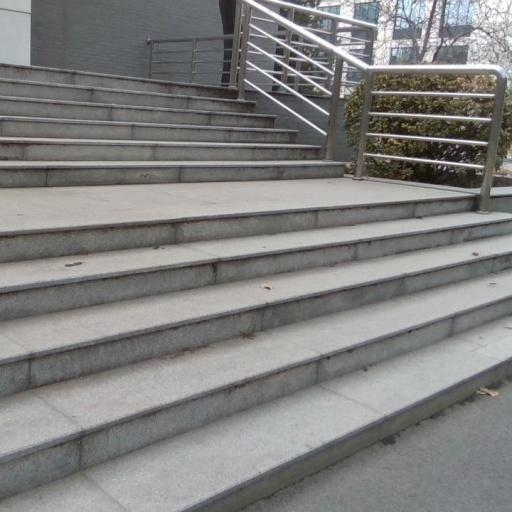stairs: (0, 119, 511, 511)
